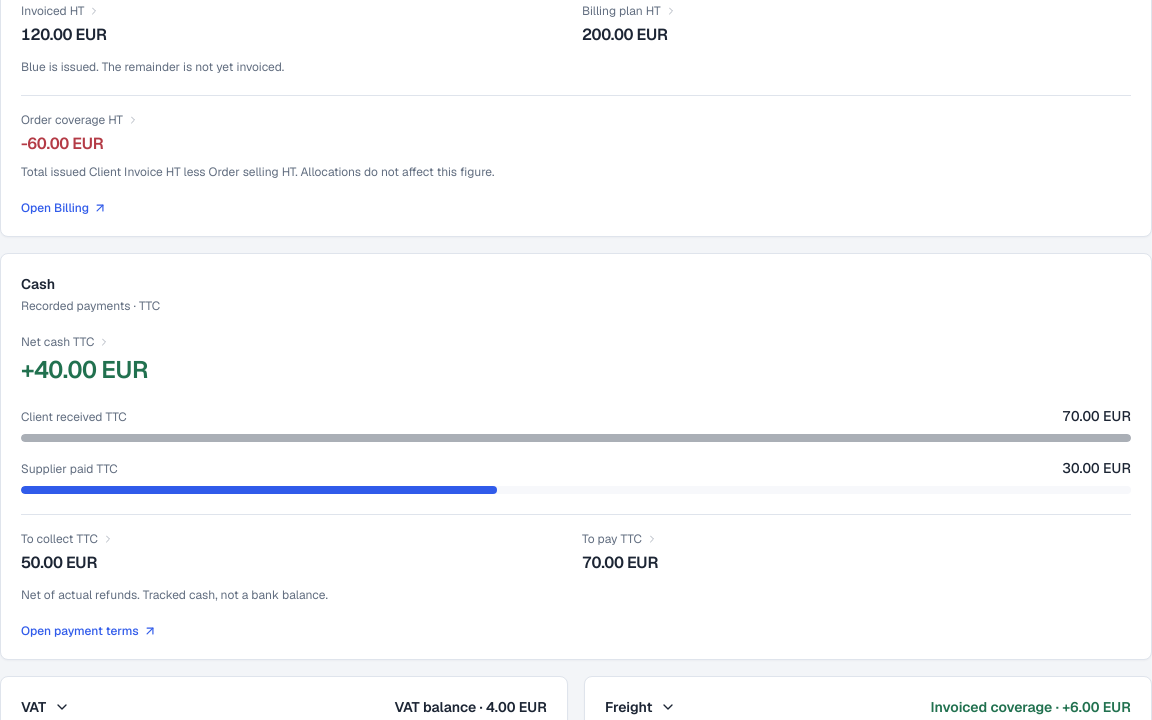
Test case: opens exact signed sources and a reconciled total without navigating away
(page scrolled)
Click the button "Net cash TTC +40.00 EUR" at (84, 360), box [21,334,148,386]
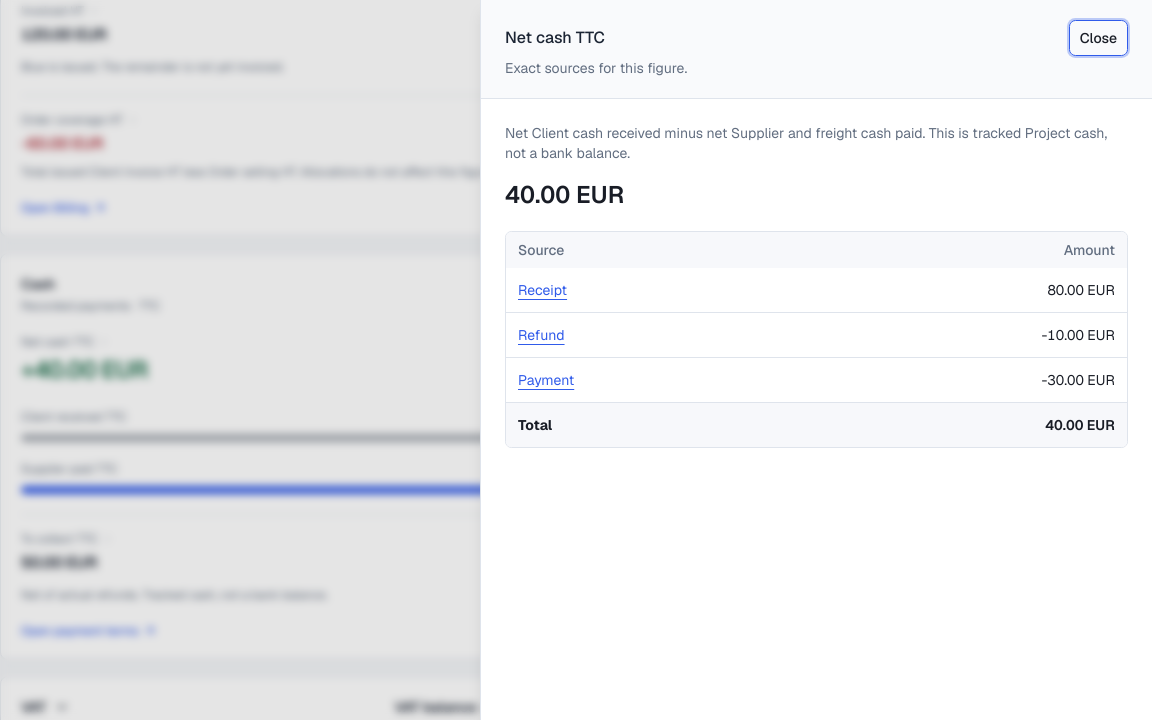
Result: the dialog shows "40.00 EUR" at [505,179,624,210]
Result: the dialog shows "-10.00 EUR" at [1042,326,1115,344]
Result: the dialog shows "-30.00 EUR" at [1042,371,1115,389]
